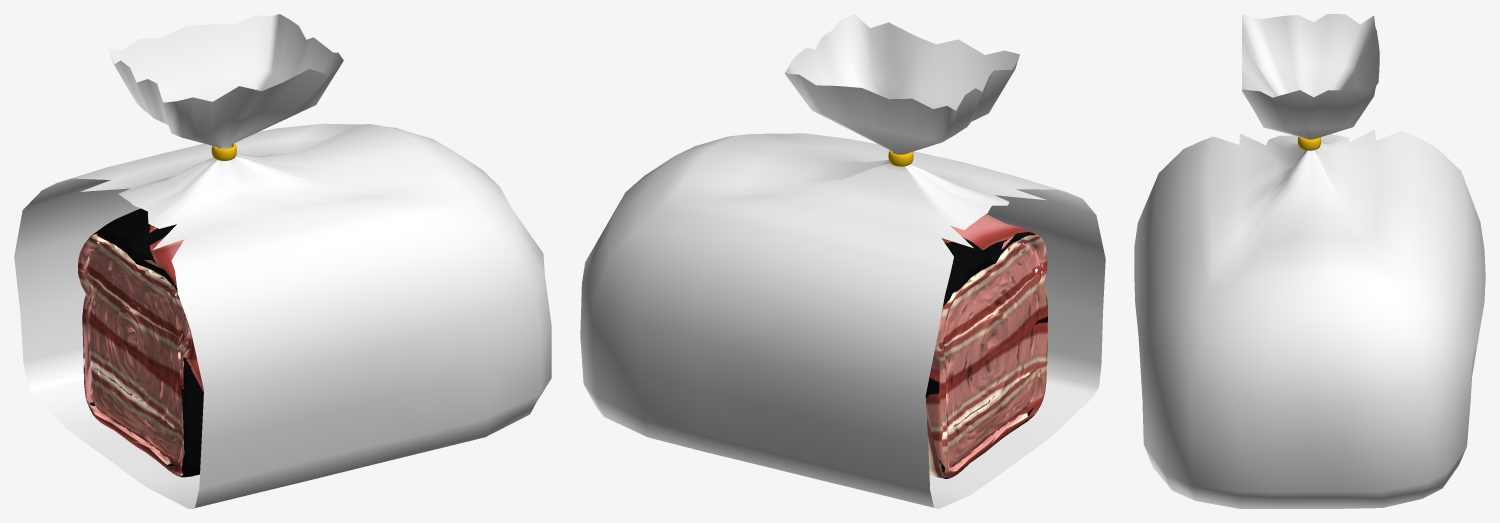
Rendered from 260806_적당히+자른+식빵+비닐_수정_02.fbx.
3 views of the same model, side by side, from view 1: azimuth 30°, elevation 25°; view 2: azimuth 150°, elevation 25°; view 3: azimuth 270°, elevation 25° (orthographic). The views are drawn at different scales.
Visible parts, largest first — view 1: Vinil, Mesh1.0; view 2: Vinil, Mesh1.0; view 3: Vinil.
Boxes of the visible parts, x1,y1,x2,y2 form: Vinil: (14, 14, 551, 508); Mesh1.0: (78, 208, 203, 477); Vinil: (580, 14, 1105, 508); Mesh1.0: (925, 214, 1047, 478); Vinil: (1134, 14, 1485, 508).
Bounding box in the file's own units: 258 × 231 × 211.
